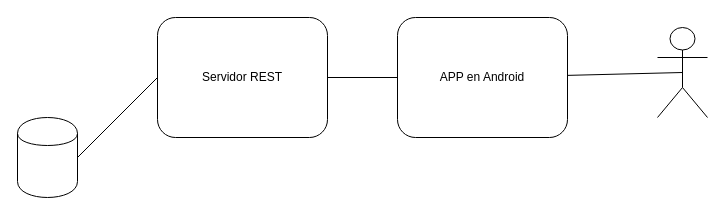
This 725x215 diagram has some shape labels left out. Each missing label, with the centre of its shape:
Actor: (x=682, y=72)
BD Juego: (x=47, y=157)
